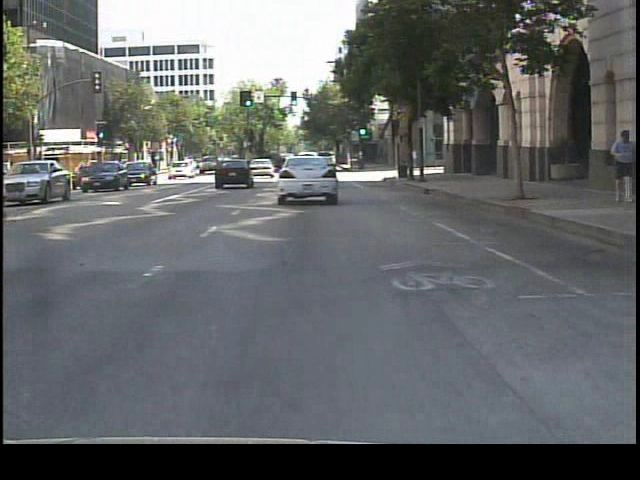person: (604, 123, 635, 203)
